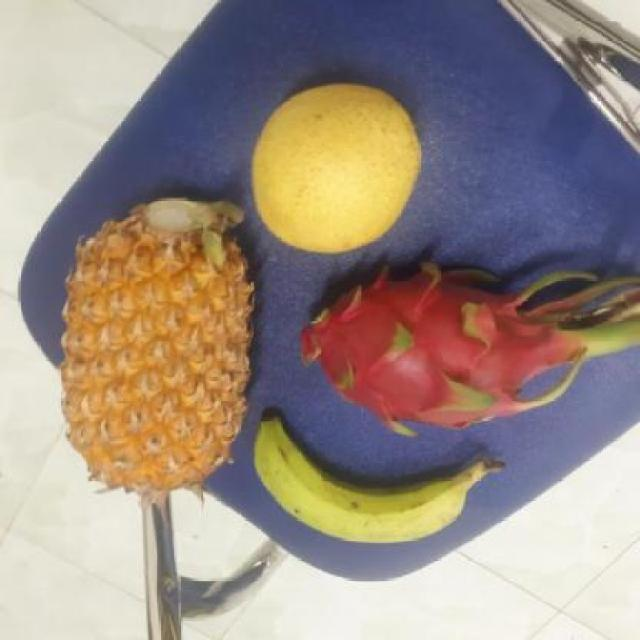banana: (251, 417, 478, 545)
dragon fruit: (275, 262, 557, 433)
pear: (248, 83, 425, 255)
pineapple: (59, 190, 258, 490)
